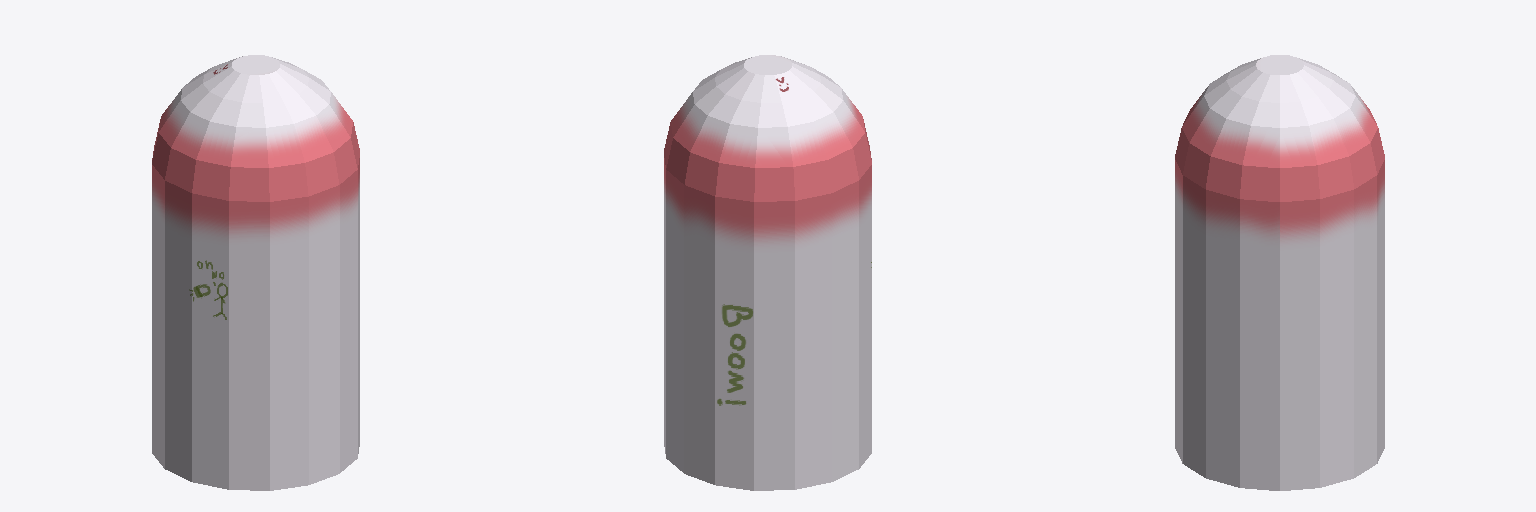
3 views of the same model, side by side, from view 1: azimuth 30°, elevation 25°; view 2: azimuth 150°, elevation 25°; view 3: azimuth 270°, elevation 25° (orthographic).
Visible parts, largest first — view 1: Cylinder; view 2: Cylinder; view 3: Cylinder.
Part boxes in pixels (left/top/right/bottom): Cylinder: left=152, top=55, right=359, bottom=490; Cylinder: left=664, top=55, right=871, bottom=490; Cylinder: left=1175, top=55, right=1384, bottom=490.
Bounding box in the file's own units: 0.25 × 0.5 × 0.25.
1 materials, 1 textured.